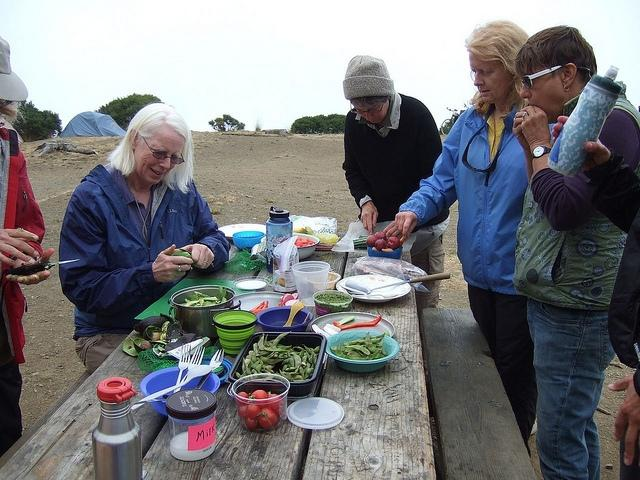pea: (364, 332, 380, 353), (346, 344, 370, 356), (292, 354, 302, 372), (255, 351, 272, 359), (279, 369, 289, 381), (302, 344, 312, 355), (352, 350, 366, 357), (370, 337, 383, 344), (284, 366, 298, 372), (277, 344, 292, 349), (292, 346, 304, 352), (255, 364, 263, 373), (252, 350, 256, 363), (204, 298, 218, 301), (344, 340, 351, 346), (382, 350, 388, 356), (306, 351, 311, 358), (272, 354, 278, 359), (268, 340, 274, 344), (276, 356, 286, 358)
tomato: (256, 408, 278, 428), (250, 390, 269, 409), (248, 404, 260, 420), (245, 416, 258, 428), (237, 392, 249, 405), (268, 394, 280, 407), (238, 404, 248, 418)
